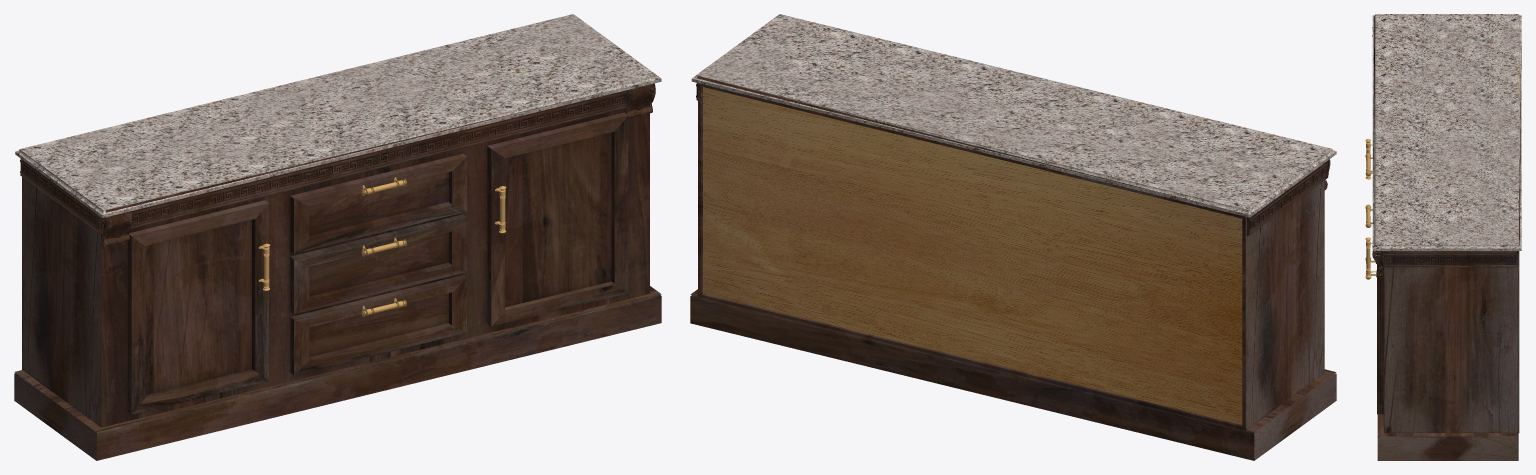
3 views of the same model, side by side, from view 1: azimuth 30°, elevation 25°; view 2: azimuth 150°, elevation 25°; view 3: azimuth 270°, elevation 25° (orthographic). The views are drawn at different scales.
Parts seen in each view (by area): view 1: LR_Como1, Extrude, Ottoni; view 2: Plainwood, Extrude, LR_Como1; view 3: Extrude, LR_Como1, Ottoni.
Boxes of the visible parts, box(x1,y1,x2,y2) form: LR_Como1: box(14, 83, 661, 460); Extrude: box(15, 14, 661, 217); Ottoni: box(258, 177, 506, 316); Plainwood: box(703, 87, 1242, 424); Extrude: box(691, 14, 1336, 217); LR_Como1: box(690, 76, 1336, 460); Extrude: box(1372, 14, 1521, 250); LR_Como1: box(1372, 16, 1521, 460); Ottoni: box(1365, 139, 1376, 279).
Size of the model in its own units: 206 by 87.09 by 57.66.
Materials: 5 (4 with a texture image).
